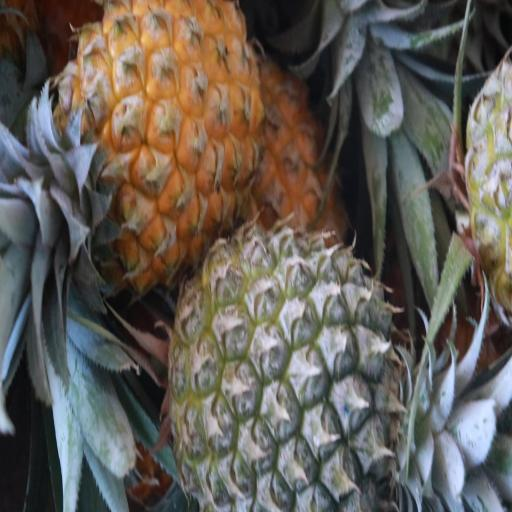Pineapple - v8 v1: (67, 0, 260, 281)
